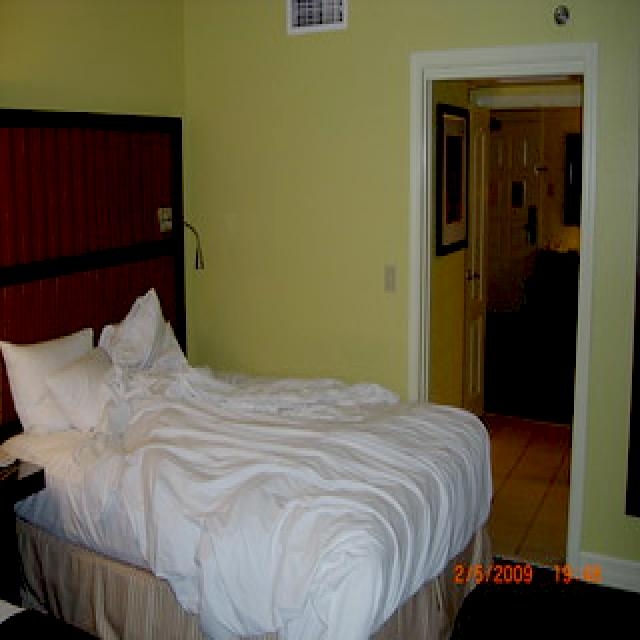bed: (0, 290, 496, 626)
